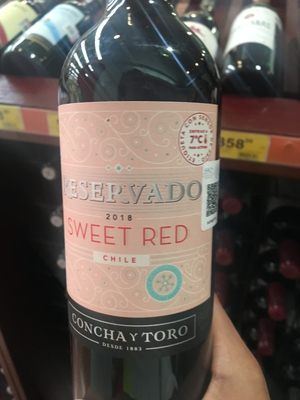reservado sweet red: (59, 22, 233, 400)
